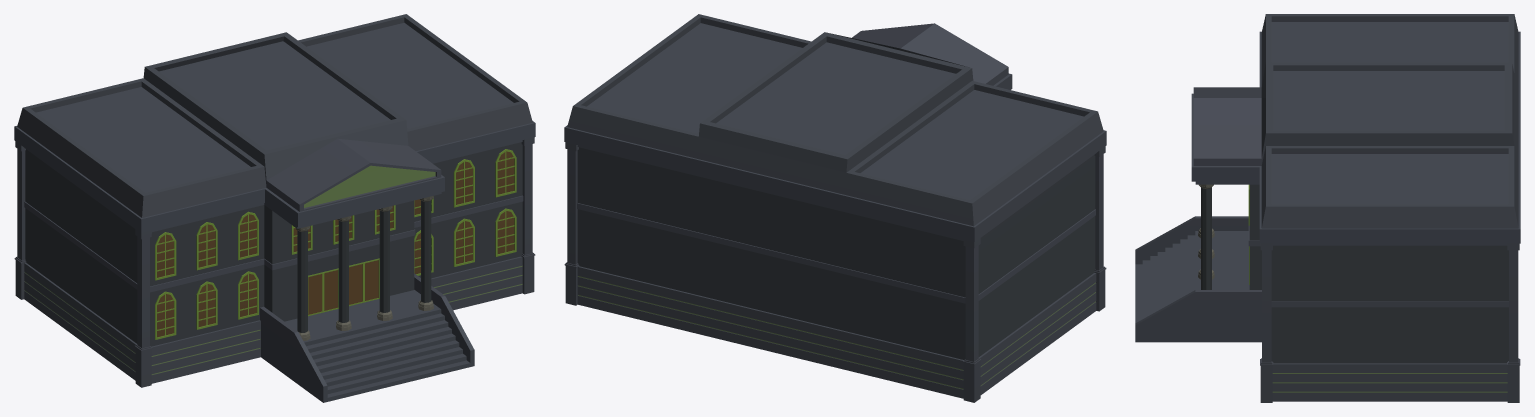
Rendered from CityHall_02.fbx.
The picture shows the model from 3 angles, left to right: view 1: azimuth 30°, elevation 25°; view 2: azimuth 150°, elevation 25°; view 3: azimuth 270°, elevation 25°; orthographic projection. The views are drawn at different scales.
Visible parts, largest first — view 1: CityHall_02; view 2: CityHall_02; view 3: CityHall_02.
Boxes of the visible parts, x1,y1,x2,y2 form: CityHall_02: (14, 14, 535, 402); CityHall_02: (564, 14, 1106, 402); CityHall_02: (1135, 14, 1520, 402).
Size of the model in its own units: 22.6 by 11 by 18.6.
